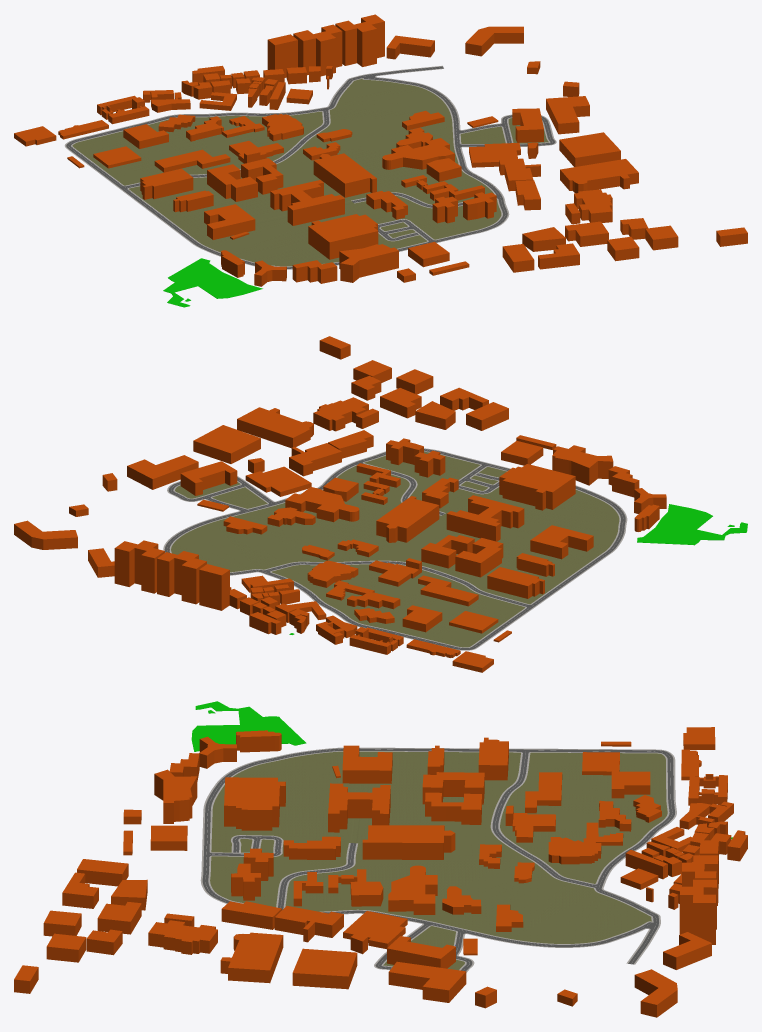
The model's file is nycu_carla_v6.fbx.
3 renders of one model, top to bottom at view 1: azimuth 30°, elevation 25°; view 2: azimuth 150°, elevation 25°; view 3: azimuth 270°, elevation 25°, orthographic. The views are drawn at different scales.
Visible parts, largest first — view 1: Terrain_Ground_Layer0Node, Roads_Road_Layer0Node, Roads_Sidewalk_Layer0Node, material.102_PropNode, material.075_PropNode, material.024_PropNode, material.083_PropNode, material.057_PropNode, material.086_PropNode, material.084_PropNode, material.091_PropNode, material.047_PropNode (+47 smaller); view 2: Terrain_Ground_Layer0Node, Roads_Road_Layer0Node, Roads_Sidewalk_Layer0Node, material.102_PropNode, material.075_PropNode, material.083_PropNode, material.057_PropNode, material.084_PropNode, material.086_PropNode, material.047_PropNode, material.070_PropNode, material.091_PropNode (+40 smaller); view 3: Terrain_Ground_Layer0Node, Roads_Road_Layer0Node, Roads_Sidewalk_Layer0Node, material.102_PropNode, material.086_PropNode, material.057_PropNode, material.075_PropNode, material.047_PropNode, material.024_PropNode, material.050_PropNode, material.083_PropNode, material.070_PropNode (+49 smaller).
Boxes of the visible parts, x1,y1,x2,y2 form: Terrain_Ground_Layer0Node: [72, 78, 548, 266]; Roads_Road_Layer0Node: [66, 66, 555, 268]; Roads_Sidewalk_Layer0Node: [64, 65, 556, 269]; material.102_PropNode: [308, 214, 378, 259]; material.075_PropNode: [270, 180, 344, 225]; material.024_PropNode: [163, 258, 262, 307]; material.083_PropNode: [335, 14, 384, 66]; material.057_PropNode: [560, 159, 638, 193]; material.086_PropNode: [313, 153, 376, 197]; material.084_PropNode: [293, 24, 342, 76]; material.091_PropNode: [339, 244, 398, 282]; material.047_PropNode: [559, 132, 620, 166]; Terrain_Ground_Layer0Node: [171, 451, 619, 647]; Roads_Road_Layer0Node: [164, 449, 625, 649]; Roads_Sidewalk_Layer0Node: [163, 448, 627, 650]; material.102_PropNode: [499, 464, 575, 510]; material.075_PropNode: [446, 495, 524, 541]; material.083_PropNode: [114, 540, 164, 593]; material.057_PropNode: [237, 407, 313, 448]; material.084_PropNode: [157, 551, 206, 604]; material.086_PropNode: [376, 496, 439, 542]; material.047_PropNode: [193, 425, 260, 463]; material.070_PropNode: [285, 487, 359, 522]; material.091_PropNode: [552, 446, 613, 485]; Terrain_Ground_Layer0Node: [210, 751, 667, 970]; Roads_Road_Layer0Node: [202, 748, 674, 971]; Roads_Sidewalk_Layer0Node: [200, 747, 676, 972]; material.102_PropNode: [224, 777, 285, 830]; material.086_PropNode: [362, 825, 455, 859]; material.057_PropNode: [220, 932, 283, 983]; material.075_PropNode: [328, 783, 390, 832]; material.047_PropNode: [292, 948, 357, 989]; material.024_PropNode: [191, 701, 306, 751]; material.050_PropNode: [388, 961, 466, 1002]; material.083_PropNode: [679, 879, 716, 944]; material.070_PropNode: [388, 865, 437, 914].
Bounding box in the file's own units: 1066 × 1044 × 66.3.
9 materials, 6 textured.
